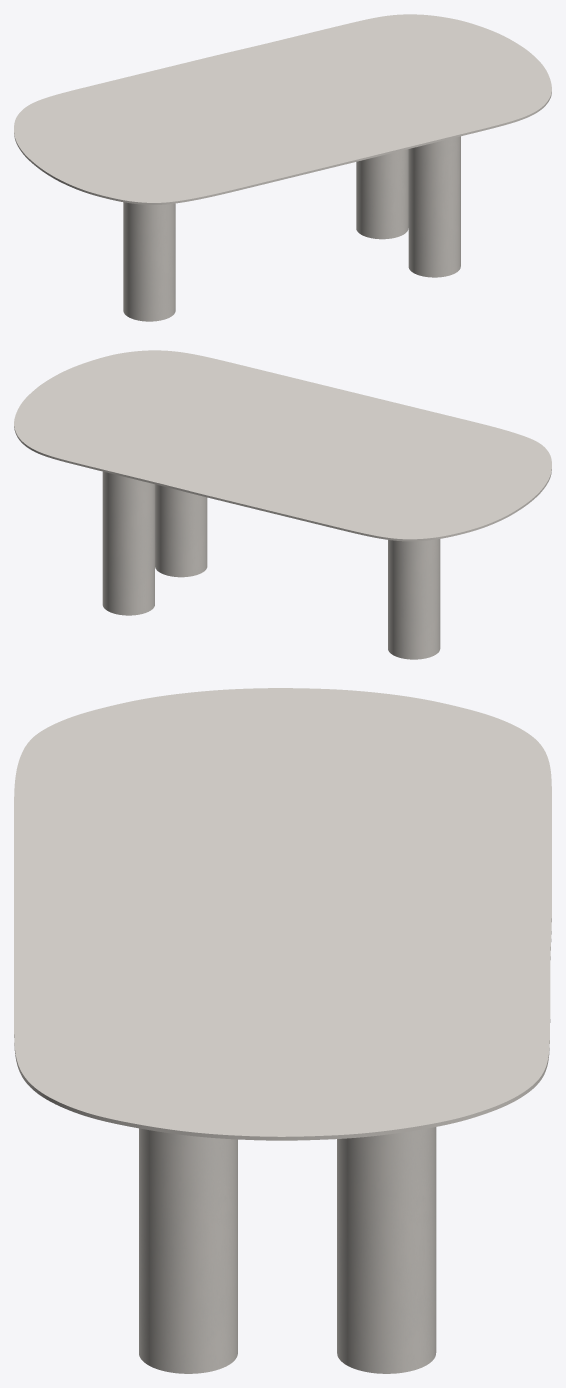
Rendered from pearlwhite_oval_facet_cylinder.glb.
3 views of the same model, one above another, from view 1: azimuth 30°, elevation 25°; view 2: azimuth 150°, elevation 25°; view 3: azimuth 270°, elevation 25° (orthographic). The views are drawn at different scales.
Parts seen in each view (by area): view 1: facet_oval, cylinder; view 2: facet_oval, cylinder; view 3: facet_oval, cylinder.
Part boxes in pixels (box(x1,y1,x2,y2)): facet_oval: box(14, 14, 551, 204); cylinder: box(123, 136, 460, 321); facet_oval: box(14, 350, 551, 541); cylinder: box(102, 471, 440, 659); facet_oval: box(14, 688, 551, 1140); cylinder: box(139, 1127, 436, 1373).
Bounding box in the file's own units: 7.5 × 2.52 × 3.8.
Materials: 1 (1 with a texture image).
